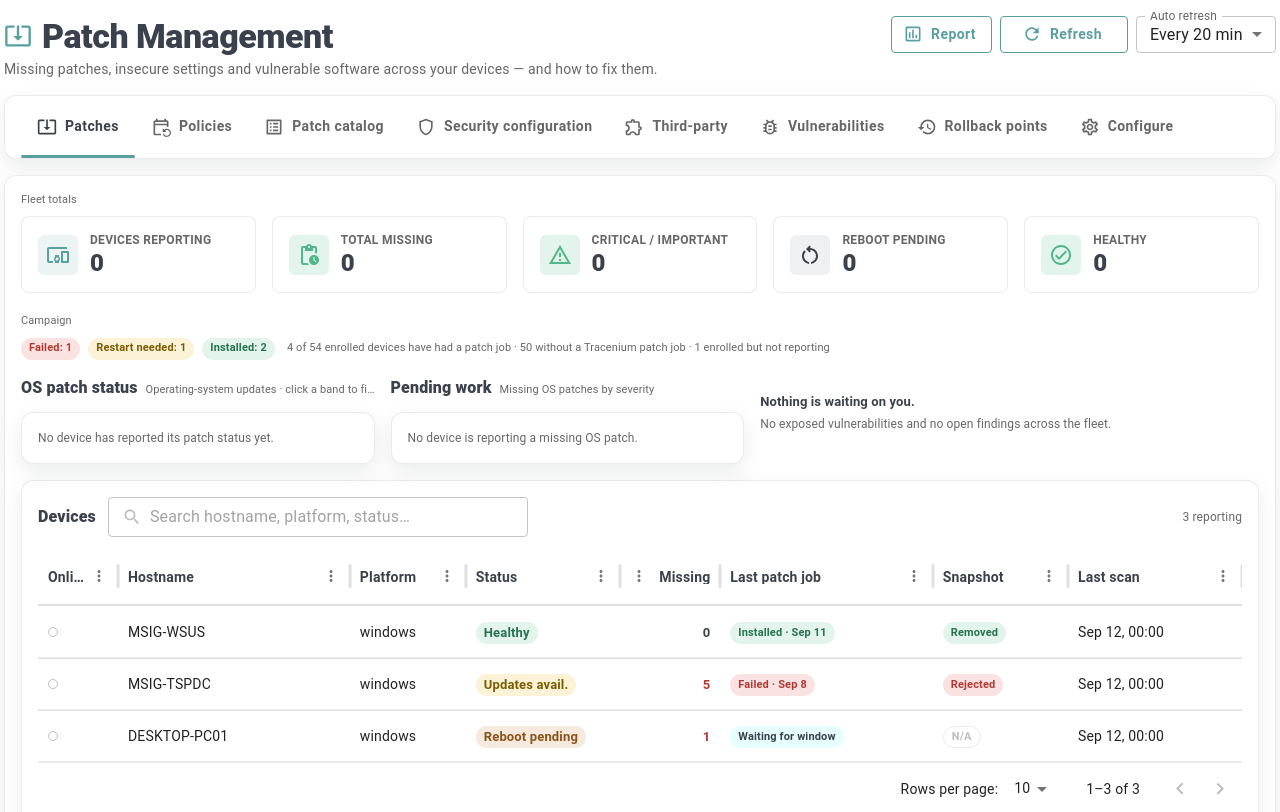
Patch Management — estado de campaña › 🔴 el PC retenido al entregar explica la espera en el tooltip, sin el código crudo
The image size is (1280, 812).
Hover over the text "Waiting for window" at (787, 737), box left=730, top=729, right=844, bottom=745
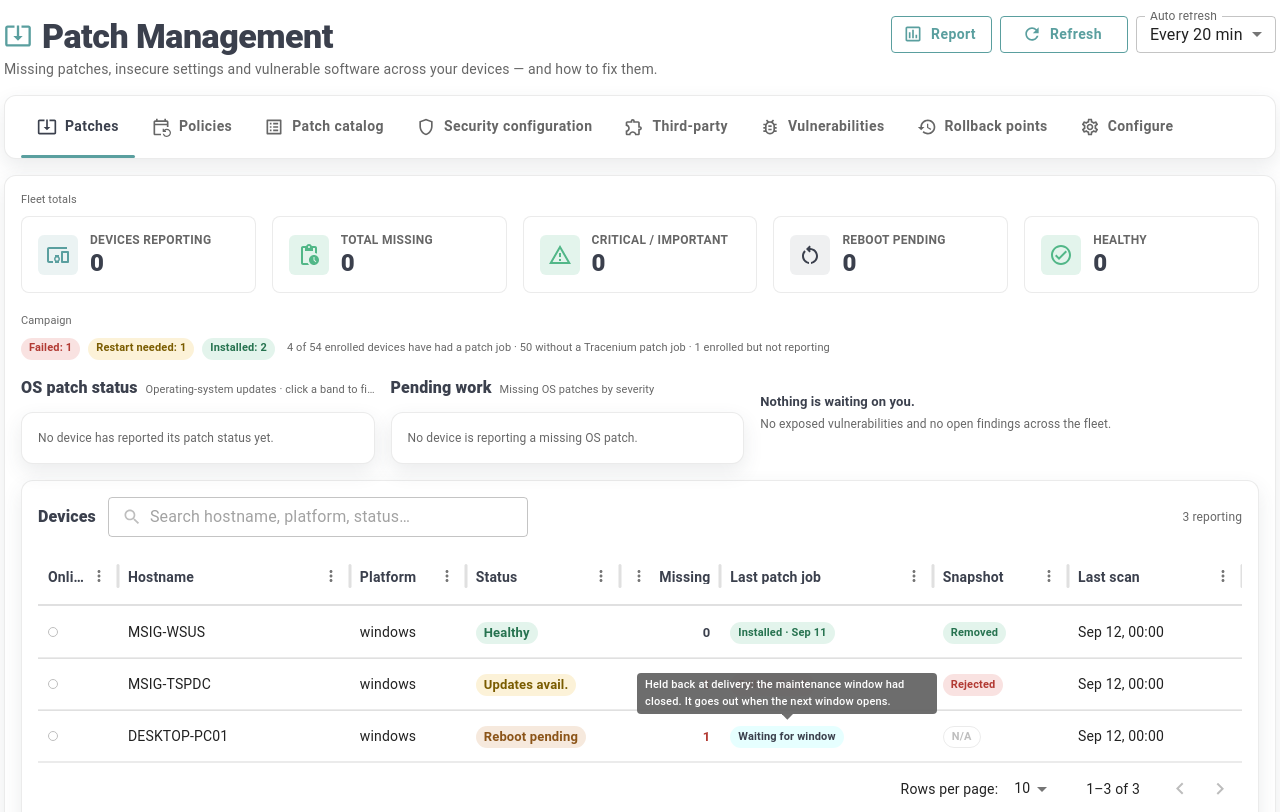
Expected: the tooltip does not show "held:maintenance_window_closed", left=637, top=673, right=937, bottom=728
Now the tooltip shows "maintenance window had closed", box left=645, top=678, right=904, bottom=708
